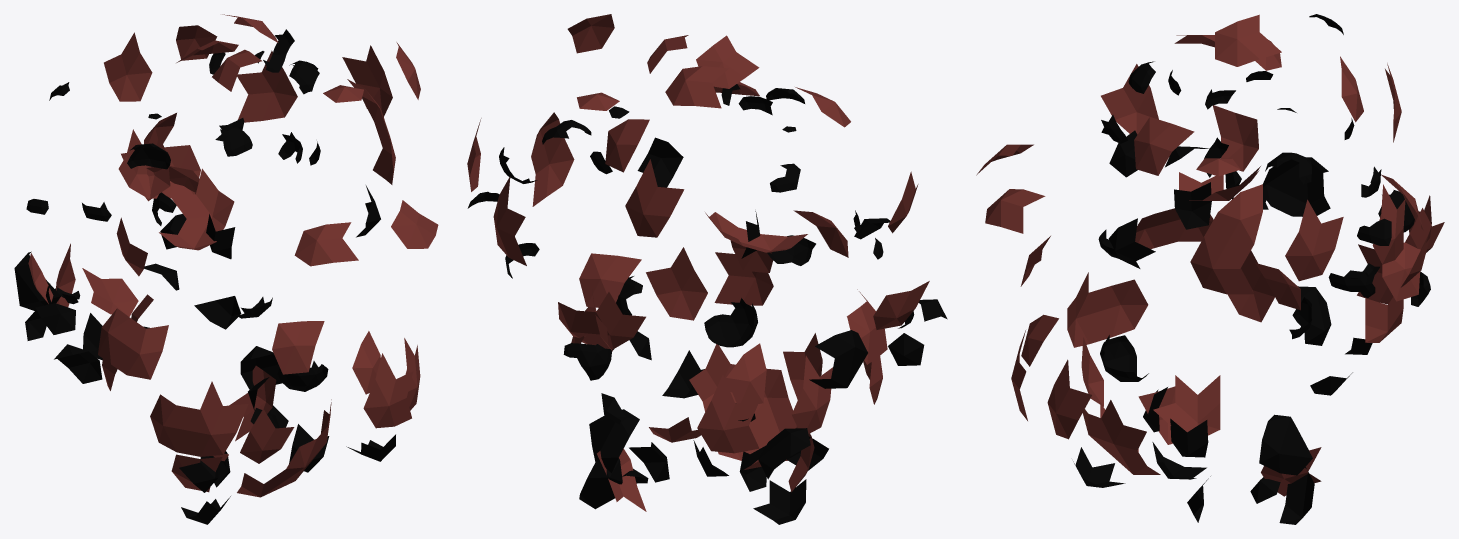
Rendered from explode.f0011.glb.
The picture shows the model from 3 angles, left to right: view 1: azimuth 30°, elevation 25°; view 2: azimuth 150°, elevation 25°; view 3: azimuth 270°, elevation 25°; orthographic projection. The views are drawn at different scales.
Parts seen in each view (by area): view 1: Body.001; view 2: Body.001; view 3: Body.001.
Boxes of the visible parts, <box> form: Body.001: <box>14,14,438,524</box>; Body.001: <box>467,14,947,524</box>; Body.001: <box>976,14,1444,524</box>.
Size of the model in its own units: 5.39 by 6.06 by 5.23.
1 material, 1 textured.
